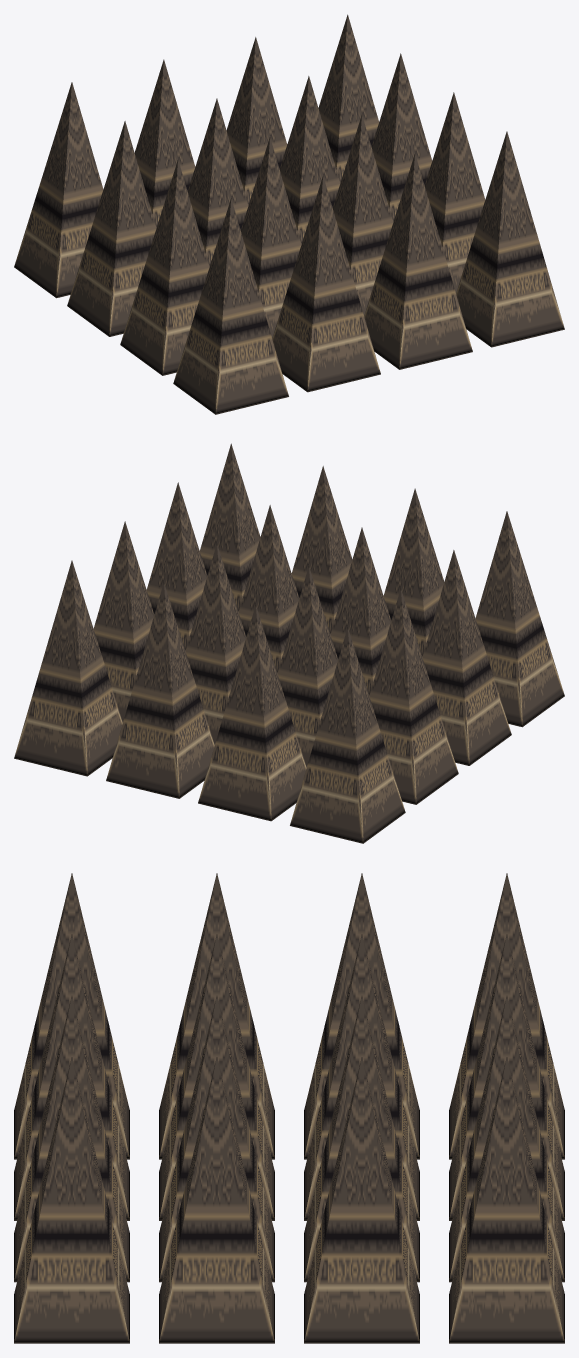
Rendered from Stachel-Feld.fbx.
The picture shows the model from 3 angles, top to bottom: view 1: azimuth 30°, elevation 25°; view 2: azimuth 150°, elevation 25°; view 3: azimuth 270°, elevation 25°; orthographic projection. The views are drawn at different scales.
Visible parts, largest first — view 1: Stachel-Feld; view 2: Stachel-Feld; view 3: Stachel-Feld.
Boxes of the visible parts, x1,y1,x2,y2 form: Stachel-Feld: (14, 14, 564, 414); Stachel-Feld: (14, 443, 564, 843); Stachel-Feld: (14, 873, 564, 1343).
Bounding box in the file's own units: 1.9 × 1 × 1.9.
